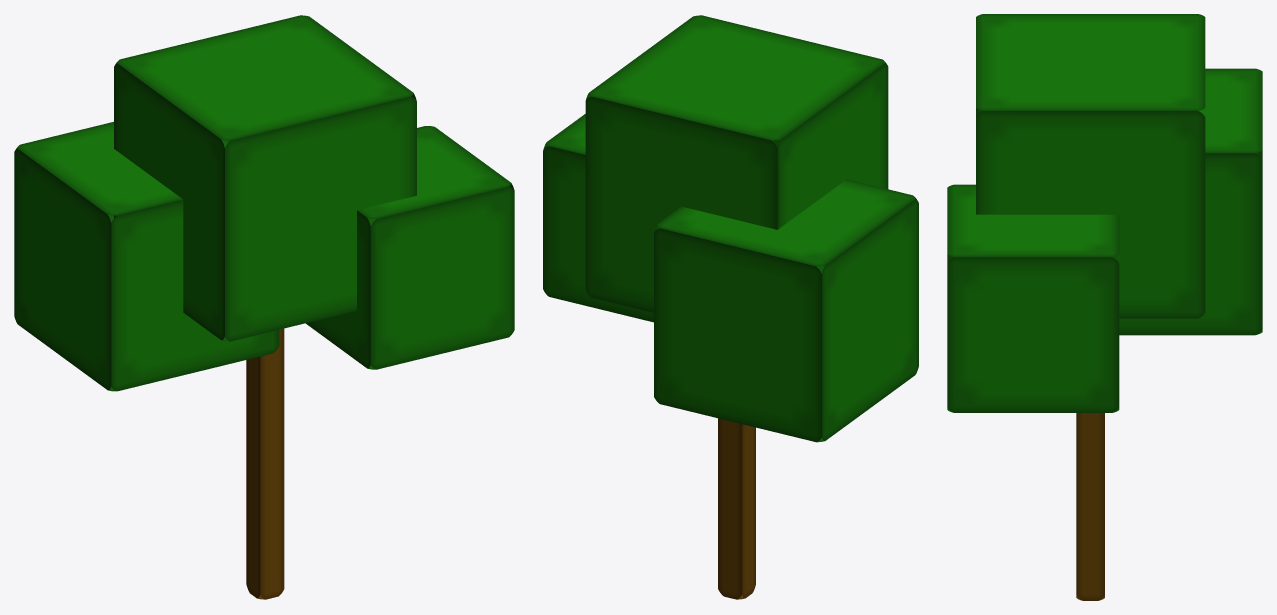
File: tree1.fbx
The picture shows the model from 3 angles, left to right: view 1: azimuth 30°, elevation 25°; view 2: azimuth 150°, elevation 25°; view 3: azimuth 270°, elevation 25°; orthographic projection. The views are drawn at different scales.
Parts seen in each view (by area): view 1: cuboid_1, cuboid_2, cuboid_3, cuboid; view 2: cuboid_1, cuboid_2, cuboid_3, cuboid; view 3: cuboid_1, cuboid_3, cuboid_2, cuboid.
Boxes of the visible parts, x1,y1,x2,y2 form: cuboid_1: [114, 15, 416, 341]; cuboid_2: [14, 122, 279, 391]; cuboid_3: [306, 126, 514, 369]; cuboid: [246, 328, 284, 599]; cuboid_1: [585, 15, 888, 312]; cuboid_2: [654, 179, 918, 442]; cuboid_3: [543, 114, 653, 322]; cuboid: [718, 418, 755, 599]; cuboid_1: [976, 14, 1205, 318]; cuboid_3: [947, 184, 1119, 412]; cuboid_2: [1119, 68, 1262, 335]; cuboid: [1076, 413, 1104, 600].
Bounding box in the file's own units: 181 × 256 × 138.
1 material, 1 textured.
